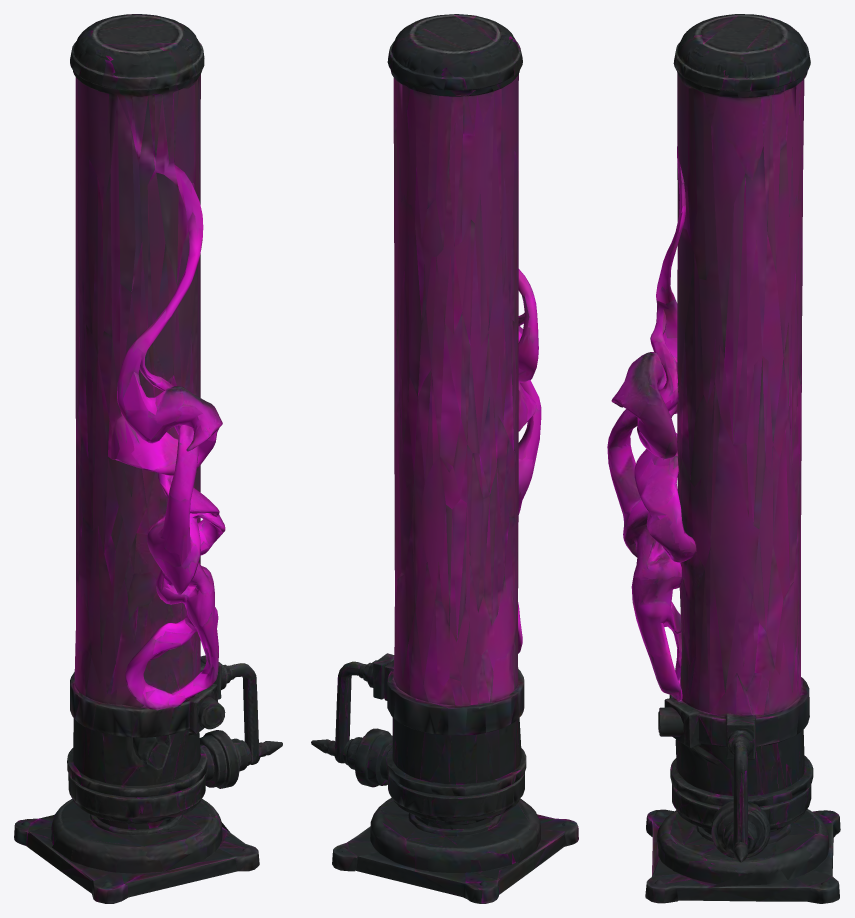
The model's file is mx_ct_conduit.glb.
The picture shows the model from 3 angles, left to right: view 1: azimuth 30°, elevation 25°; view 2: azimuth 150°, elevation 25°; view 3: azimuth 270°, elevation 25°; orthographic projection.
Bounding box in the file's own units: 0.5527 × 1.9 × 0.4842.
1 material, 1 textured.
